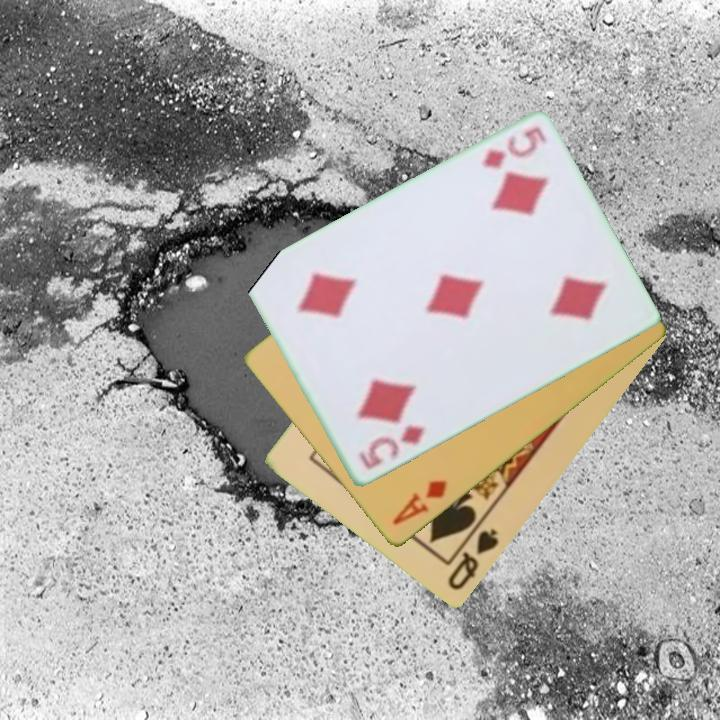5d: (355, 422, 428, 473), (478, 123, 550, 173)
Ad: (388, 477, 451, 529)
Qs: (444, 526, 502, 594)
